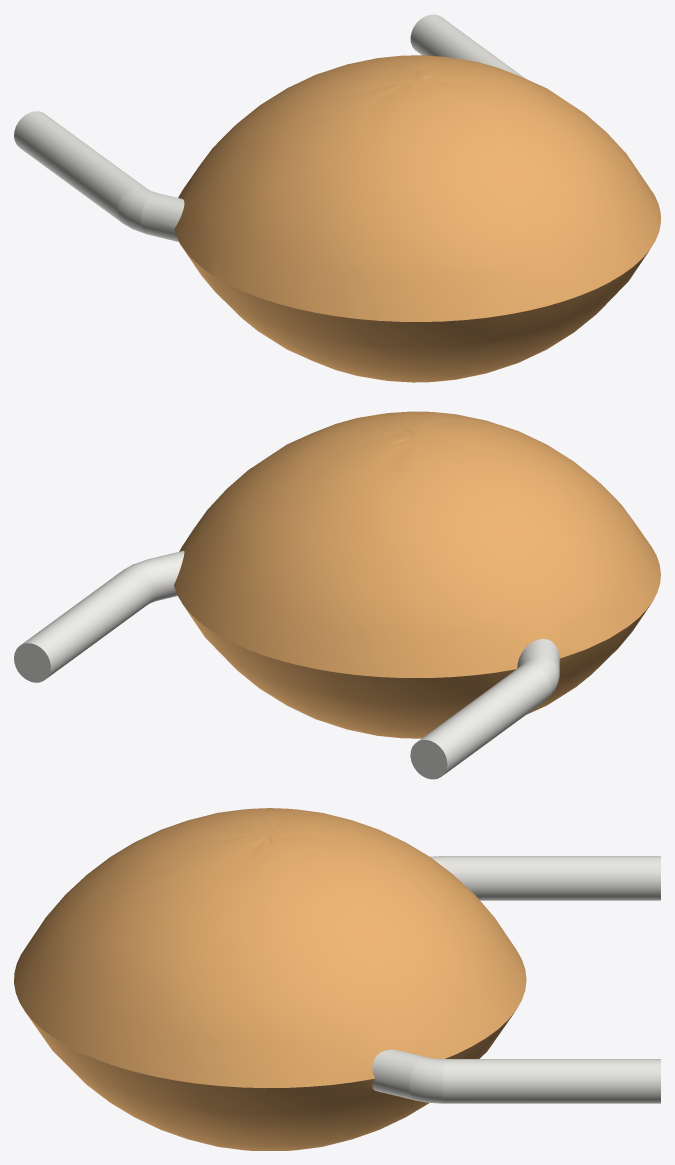
The model's file is C_Disc_D8.0mm_W5.0mm_P7.50mm.glb.
3 renders of one model, top to bottom at view 1: azimuth 30°, elevation 25°; view 2: azimuth 150°, elevation 25°; view 3: azimuth 270°, elevation 25°, orthographic. The views are drawn at different scales.
Visible parts, largest first — view 1: Shape_IndexedFaceSet.004, Shape_IndexedFaceSet.005, Shape_IndexedFaceSet.008, Shape_IndexedFaceSet.001, Shape_IndexedFaceSet.006, Shape_IndexedFaceSet.007; view 2: Shape_IndexedFaceSet.004, Shape_IndexedFaceSet.005, Shape_IndexedFaceSet.001, Shape_IndexedFaceSet.008, Shape_IndexedFaceSet.009, Shape_IndexedFaceSet, Shape_IndexedFaceSet.003, Shape_IndexedFaceSet.006, Shape_IndexedFaceSet.007; view 3: Shape_IndexedFaceSet.004, Shape_IndexedFaceSet.005, Shape_IndexedFaceSet.001, Shape_IndexedFaceSet.008, Shape_IndexedFaceSet.003, Shape_IndexedFaceSet.002.
Part boxes in pixels (<box>): Shape_IndexedFaceSet.004: <box>174,55,660,321</box>; Shape_IndexedFaceSet.005: <box>182,247,649,382</box>; Shape_IndexedFaceSet.008: <box>14,111,146,222</box>; Shape_IndexedFaceSet.001: <box>410,14,525,78</box>; Shape_IndexedFaceSet.006: <box>141,192,184,241</box>; Shape_IndexedFaceSet.007: <box>117,187,155,233</box>; Shape_IndexedFaceSet.004: <box>174,411,660,677</box>; Shape_IndexedFaceSet.005: <box>184,603,651,738</box>; Shape_IndexedFaceSet.001: <box>21,567,154,677</box>; Shape_IndexedFaceSet.008: <box>418,664,550,775</box>; Shape_IndexedFaceSet.009: <box>410,740,447,779</box>; Shape_IndexedFaceSet: <box>14,643,50,682</box>; Shape_IndexedFaceSet.003: <box>147,550,184,600</box>; Shape_IndexedFaceSet.006: <box>517,639,559,672</box>; Shape_IndexedFaceSet.007: <box>518,655,559,697</box>; Shape_IndexedFaceSet.004: <box>14,808,526,1087</box>; Shape_IndexedFaceSet.005: <box>26,1012,514,1150</box>; Shape_IndexedFaceSet.001: <box>443,1059,660,1103</box>; Shape_IndexedFaceSet.008: <box>443,856,660,900</box>; Shape_IndexedFaceSet.003: <box>372,1049,424,1100</box>; Shape_IndexedFaceSet.002: <box>409,1057,443,1103</box>.
Size of the model in its own units: 3.23 by 1.97 by 3.98.
